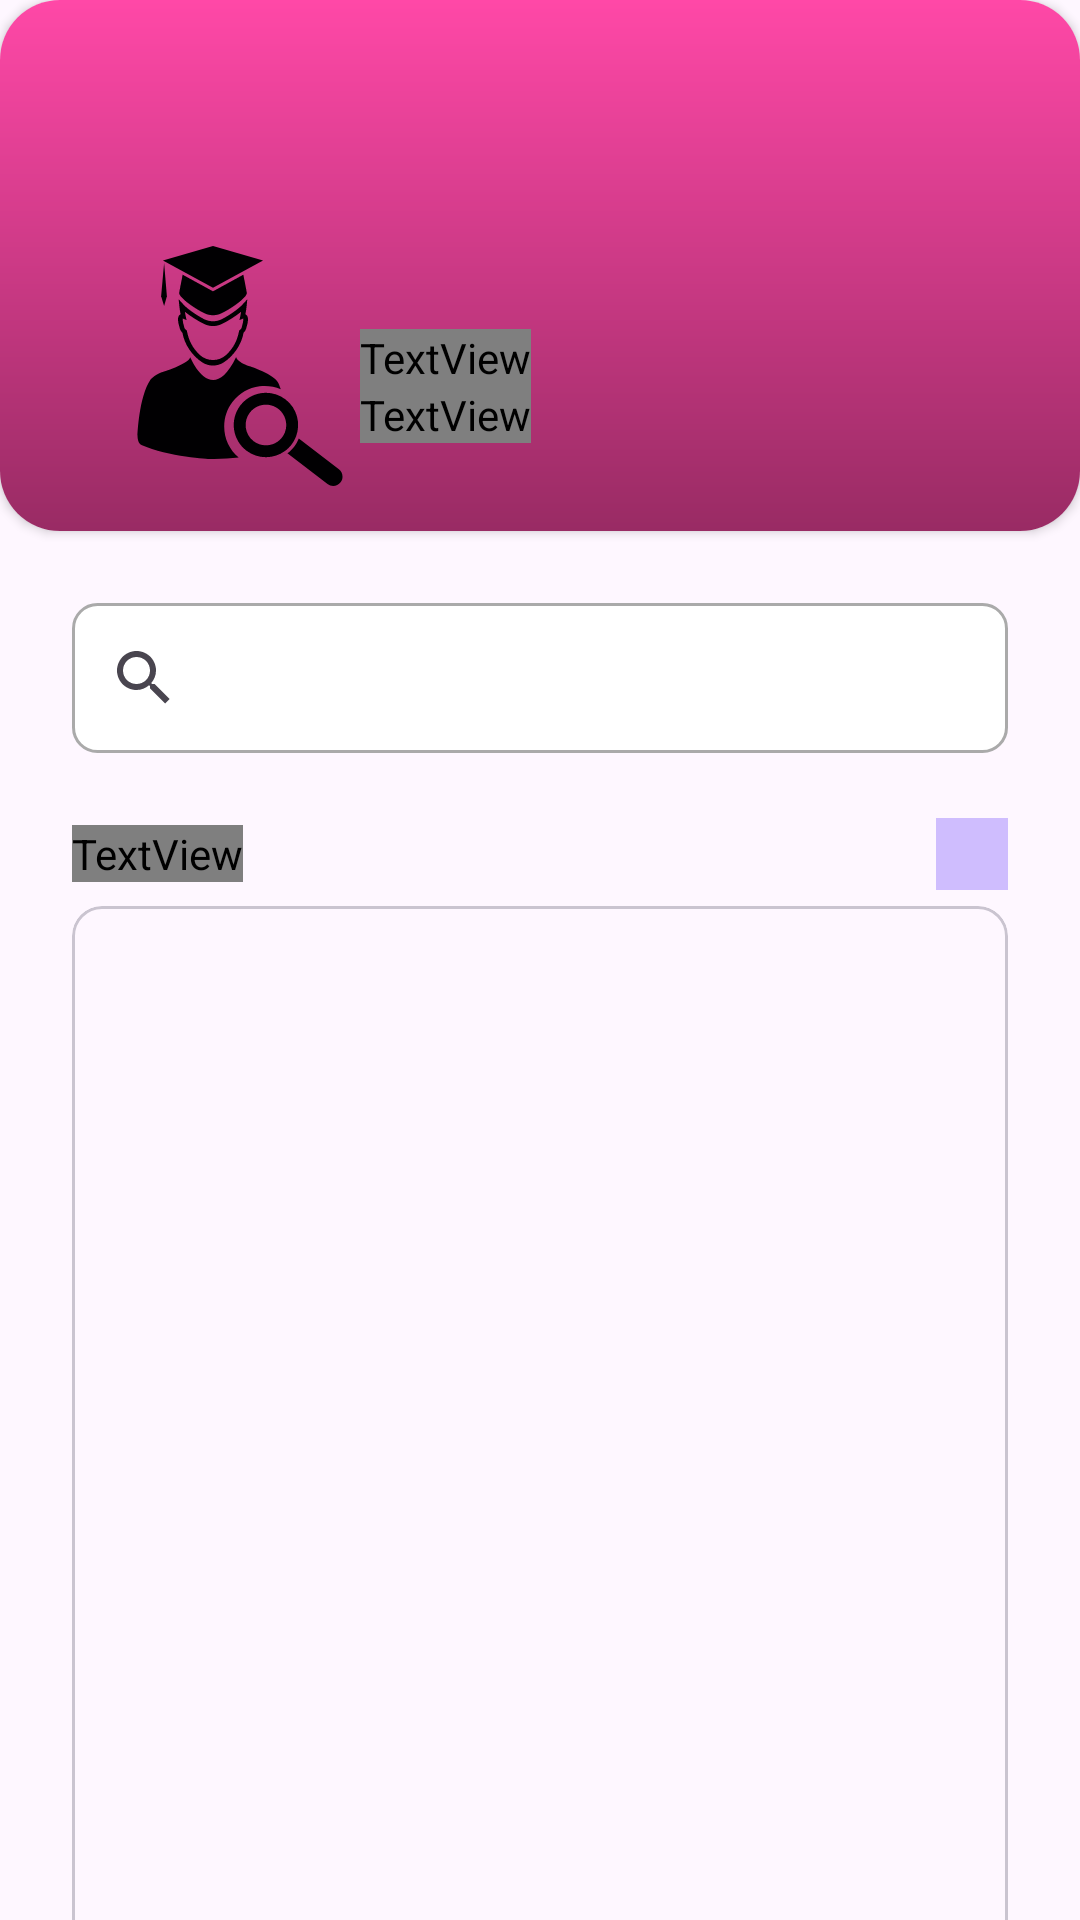

Named icons in this screenshot (1080×1920) and their centers, (x=x, y=y):
looking for students: (x=240, y=366)
